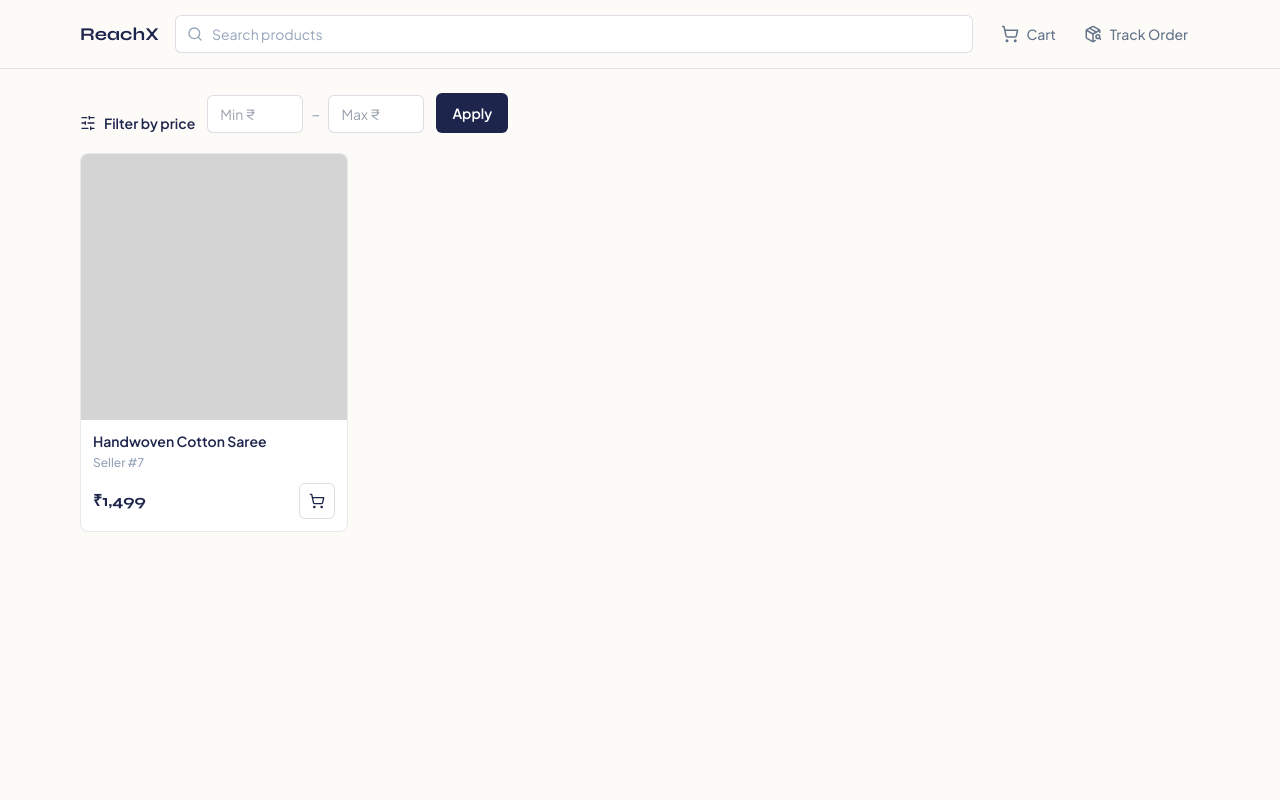
it: Product browse grid - real tree, mocked fetch boundary › adds a product to the real cart from the grid card, no fetch involved
Expected: the link "Handwoven Cotton Saree" is shown, [93, 432, 267, 450]
Click the button named "Add Handwoven Cotton Saree to cart".
click(317, 501)  # box [299, 483, 335, 519]
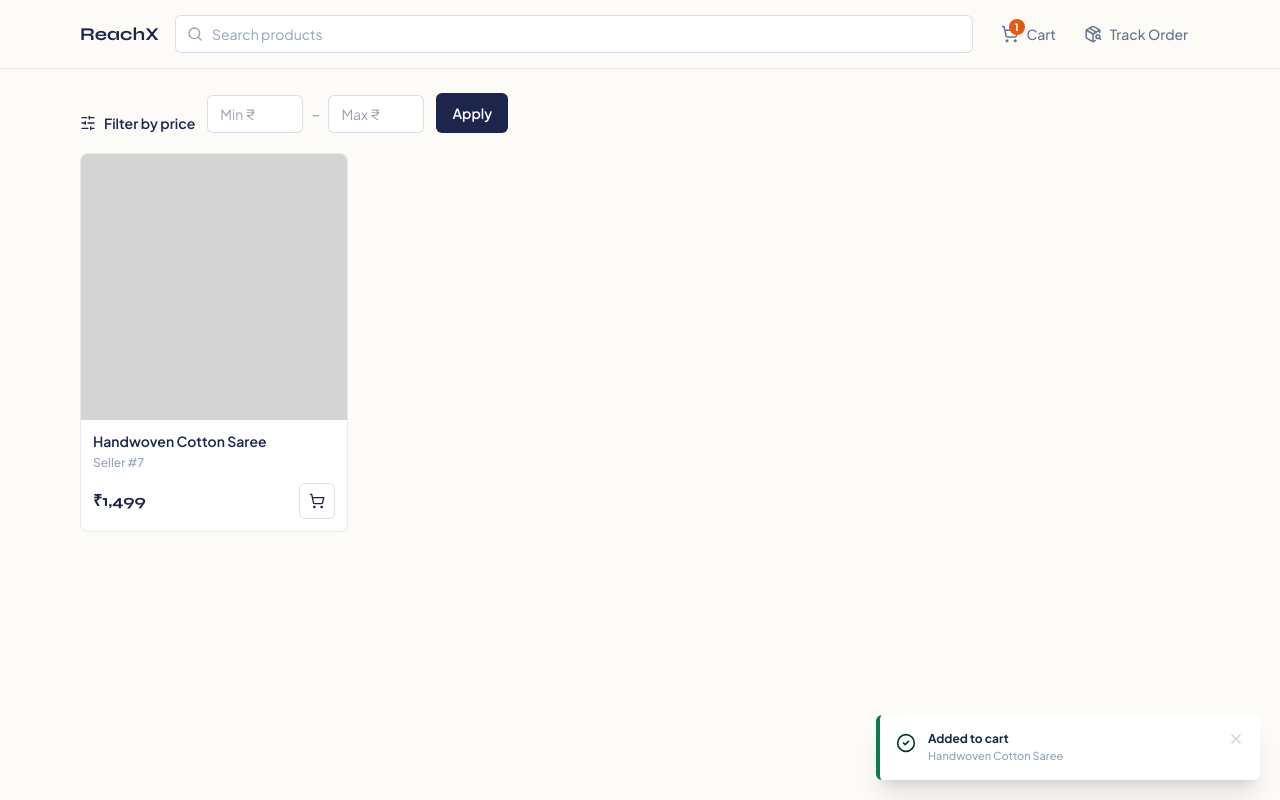
Now the text "Added to cart" is shown, box [928, 730, 1009, 746]
Now the text "1" is shown, box [1008, 19, 1024, 35]
